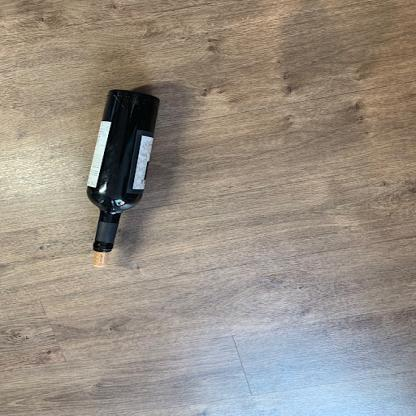trash: (86, 90, 158, 253)
